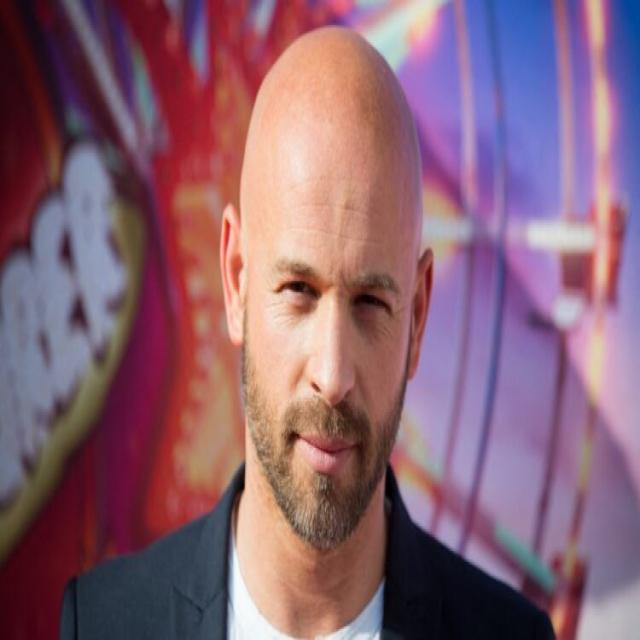Nonhelmet: (214, 12, 438, 564)
